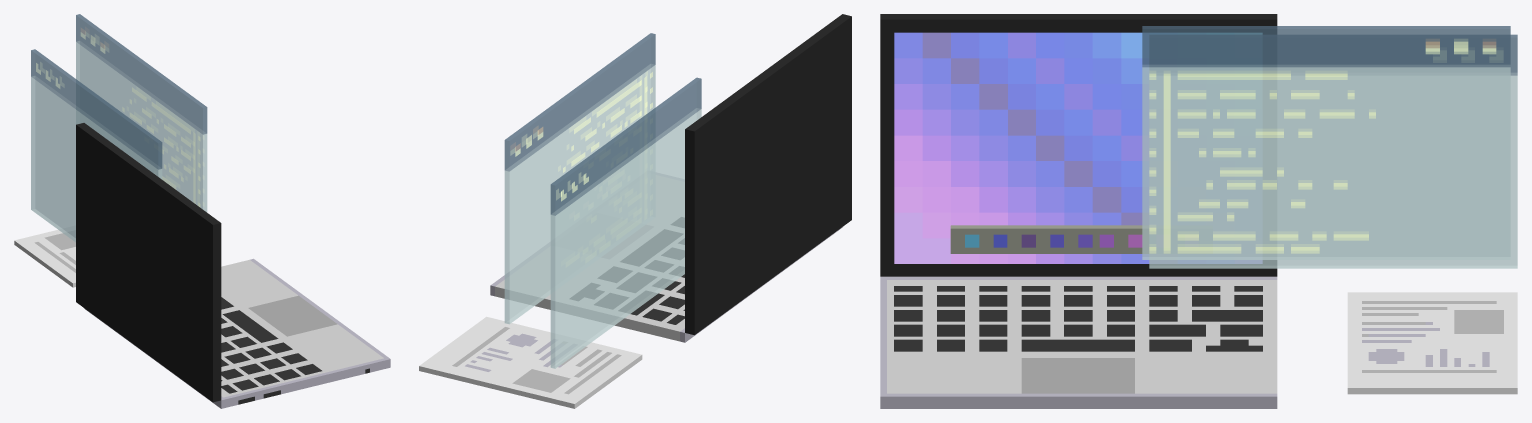
The model's file is webd-transformed.glb.
3 renders of one model, left to right at view 1: azimuth 30°, elevation 25°; view 2: azimuth 150°, elevation 25°; view 3: azimuth 270°, elevation 25°, orthographic. The views are drawn at different scales.
Visible parts, largest first — view 1: Object_4, Object_6; view 2: Object_4, Object_6; view 3: Object_4, Object_6, Object_8.
Part boxes in pixels (x1,y1,x2,y2): Object_4: (14, 123, 390, 408); Object_6: (31, 14, 207, 242); Object_4: (419, 14, 851, 408); Object_6: (504, 33, 701, 368); Object_4: (880, 14, 1517, 408); Object_6: (1142, 26, 1517, 268); Object_8: (894, 32, 1261, 263).
Size of the model in its own units: 4.2 by 4.9 by 9.
3 materials, 3 textured.
